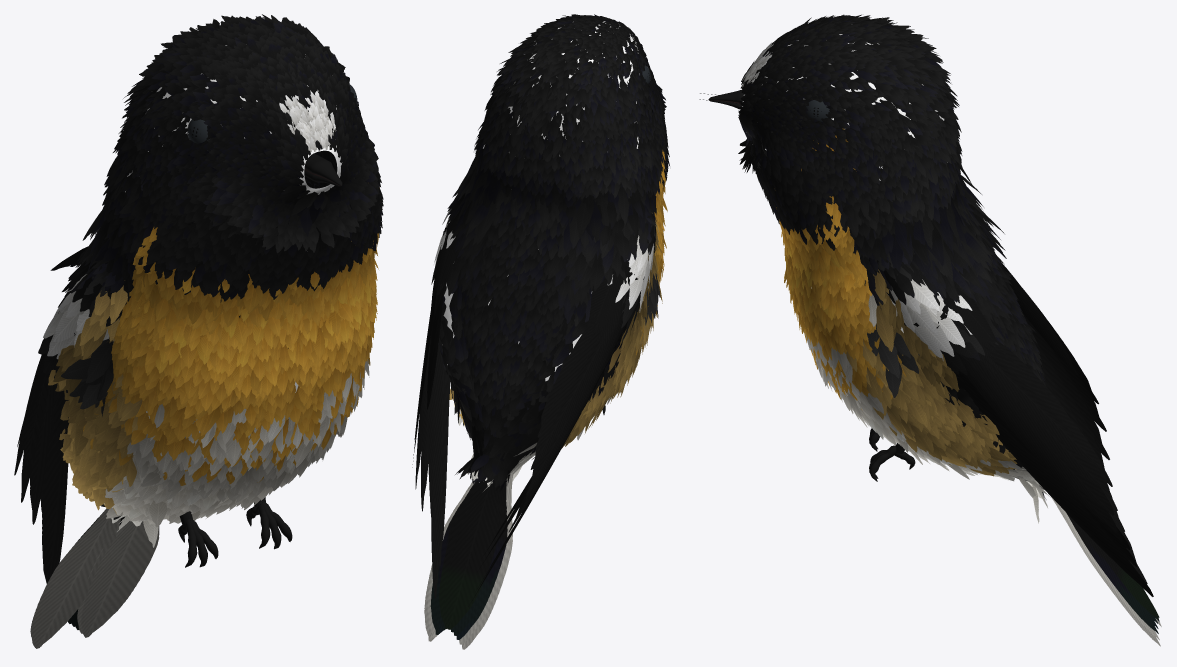
Rendered from manu-miromiro.glb.
3 renders of one model, left to right at view 1: azimuth 30°, elevation 25°; view 2: azimuth 150°, elevation 25°; view 3: azimuth 270°, elevation 25°, orthographic. The views are drawn at different scales.
Visible parts, largest first — view 1: contour_feathers, wing_and_tail_feathers, legs_and_feet, bill, body_skin; view 2: contour_feathers, wing_and_tail_feathers, body_skin; view 3: contour_feathers, wing_and_tail_feathers, legs_and_feet.
Part boxes in pixels (box(x1,y1,x2,y2)): contour_feathers: box(48, 14, 383, 547); wing_and_tail_feathers: box(14, 251, 309, 648); legs_and_feet: box(178, 83, 357, 567); bill: box(304, 153, 342, 186); body_skin: box(125, 45, 342, 392); contour_feathers: box(447, 14, 669, 491); wing_and_tail_feathers: box(412, 192, 656, 649); body_skin: box(442, 21, 639, 381); contour_feathers: box(738, 14, 1050, 523); wing_and_tail_feathers: box(864, 251, 1161, 646); legs_and_feet: box(806, 100, 915, 481).
Size of the model in its own units: 0.0619 by 0.1508 by 0.1026.
Materials: 4 (1 with a texture image).
